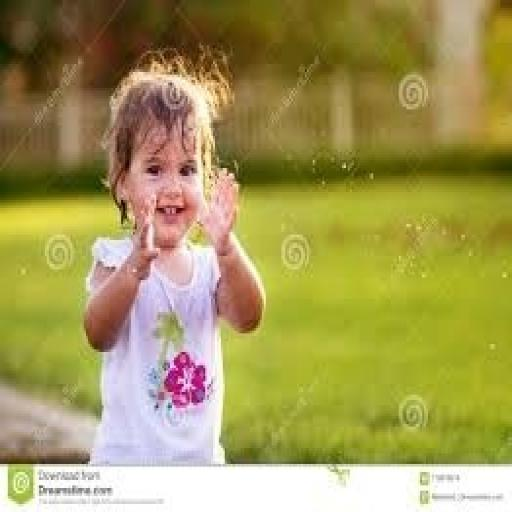clapping: (80, 42, 266, 466)
